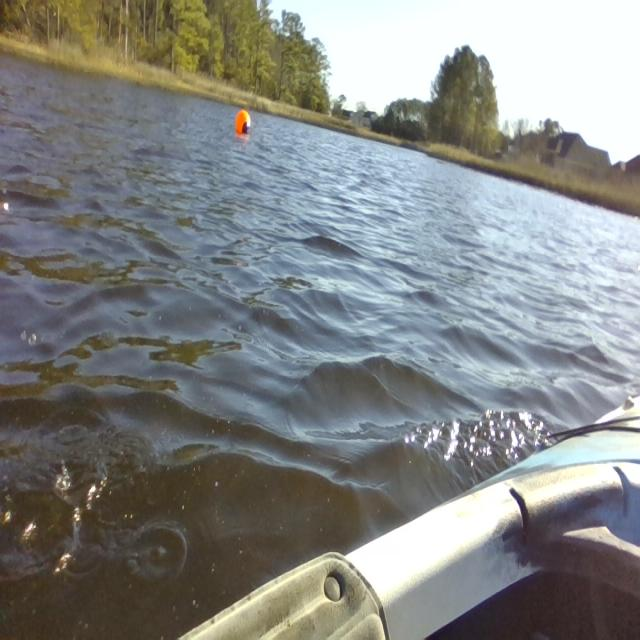Buoy: (231, 107, 254, 139)
